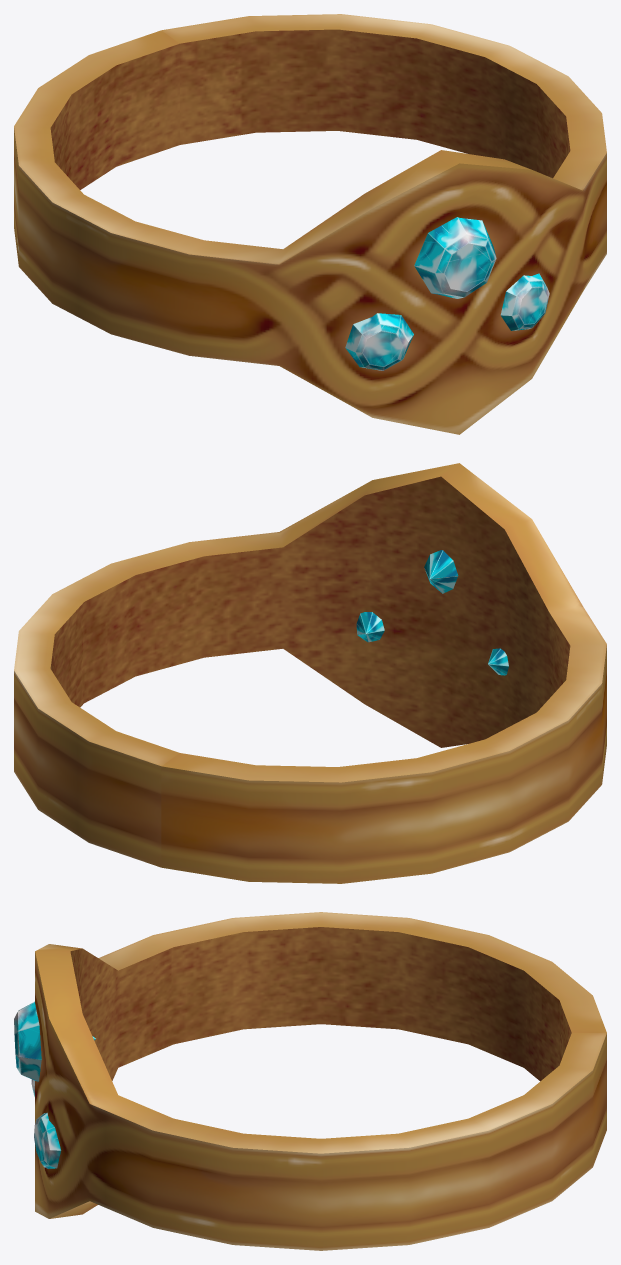
Rendered from ring_copper_05.fbx.
The picture shows the model from 3 angles, top to bottom: view 1: azimuth 30°, elevation 25°; view 2: azimuth 150°, elevation 25°; view 3: azimuth 270°, elevation 25°; orthographic projection. The views are drawn at different scales.
Visible parts, largest first — view 1: ring_copper_05; view 2: ring_copper_05; view 3: ring_copper_05.
Boxes of the visible parts, x1,y1,x2,y2 form: ring_copper_05: (14, 14, 606, 434); ring_copper_05: (14, 463, 606, 883); ring_copper_05: (14, 912, 606, 1250).
Size of the model in its own units: 2.04 by 1.03 by 2.12.
